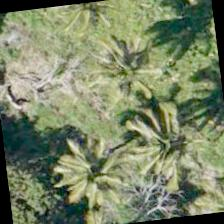Kelapa_Sawit: (44, 118, 144, 218), (119, 92, 219, 192)
